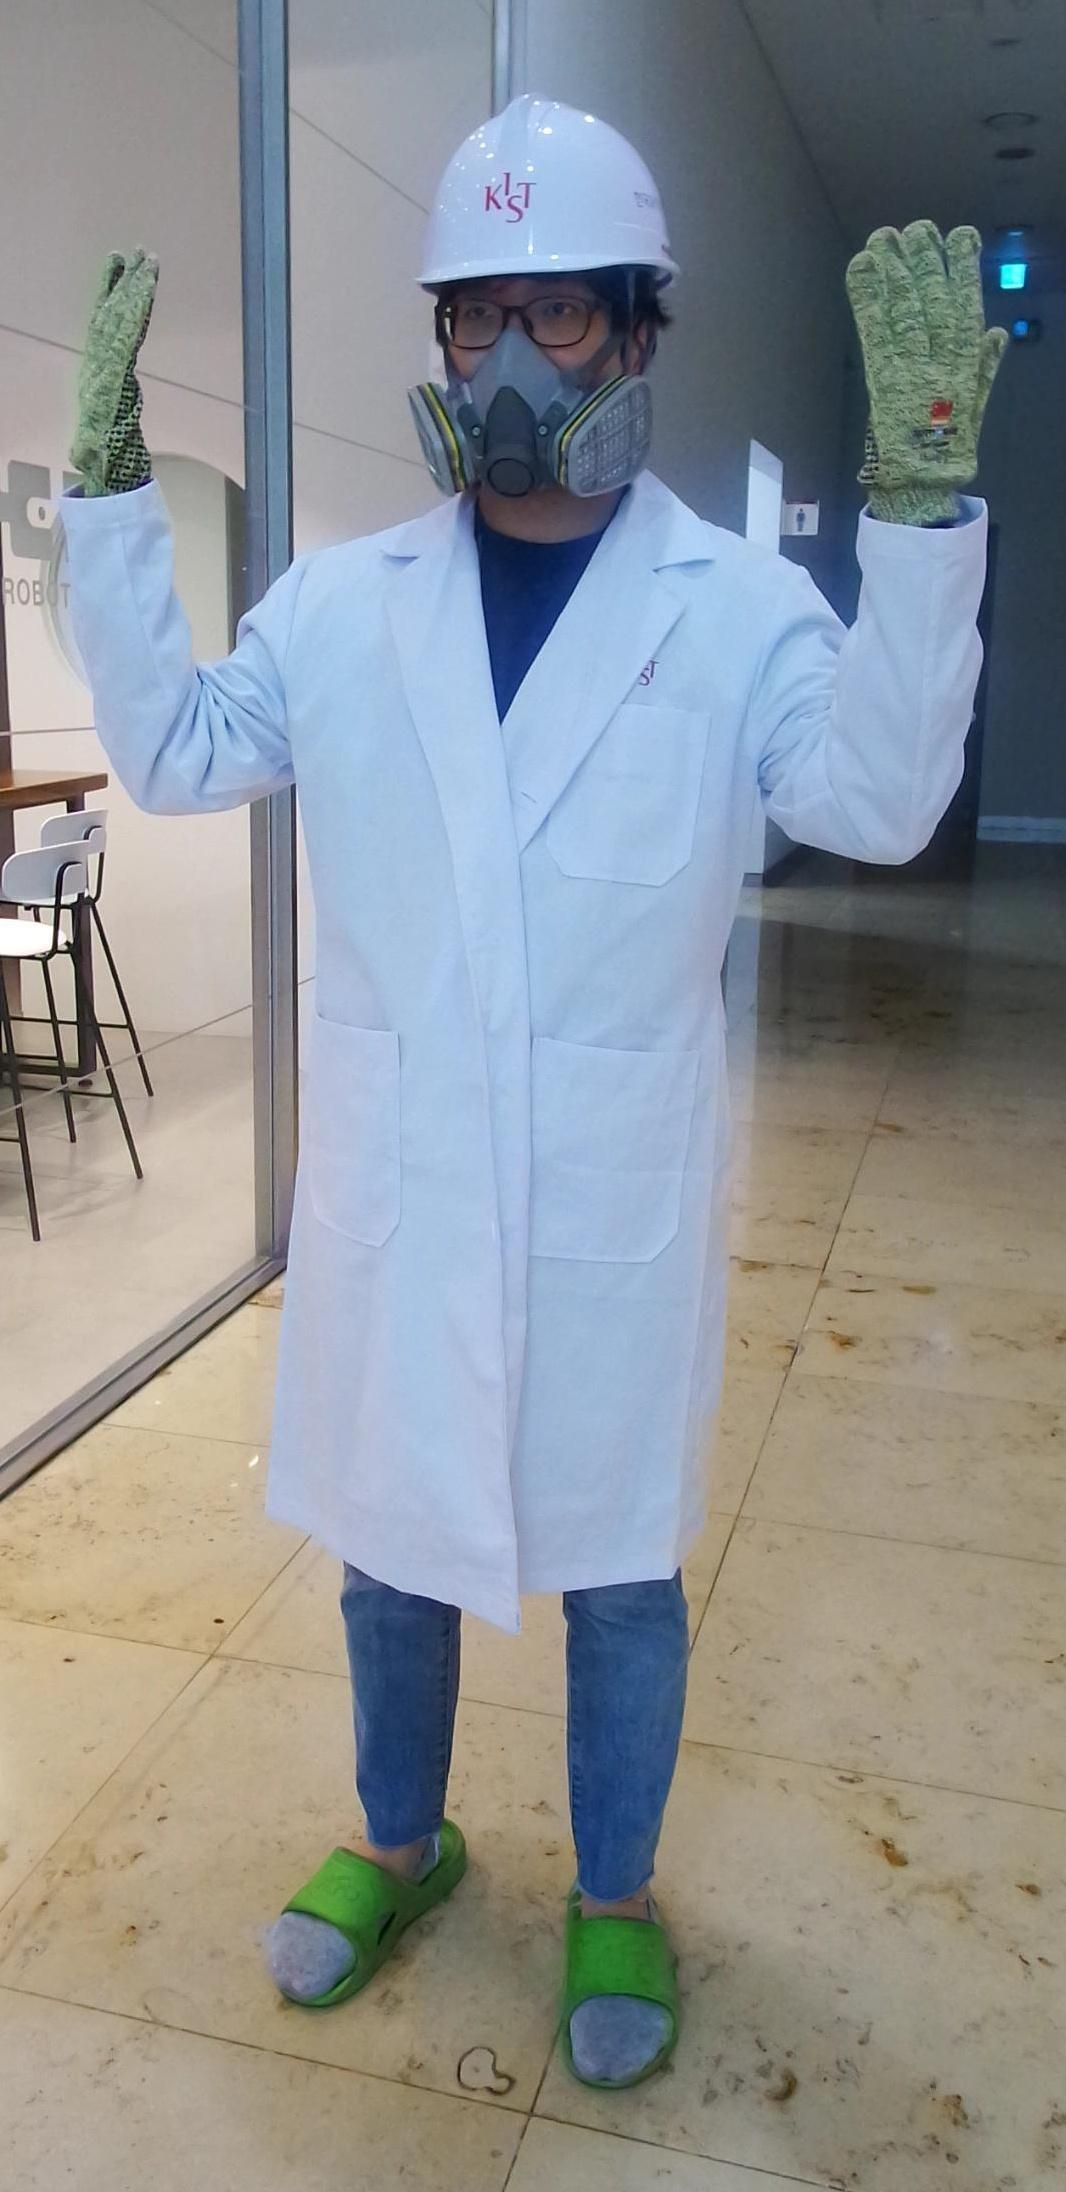lab_coat: (169, 586, 841, 1539)
